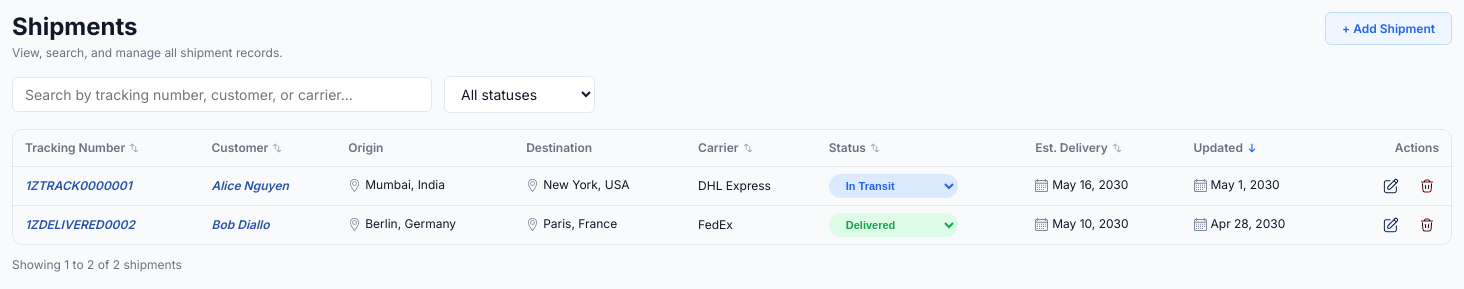
Test: ShipmentManager › shows an empty state when a search matches no shipments
Expected: the button "1ZTRACK0000001" is shown, [25,180,132,192]
In the search field with placeholder "Search by tracking number, customer, or carrier…": (222, 94) [12,77,432,112], type "nobody-matches-this"
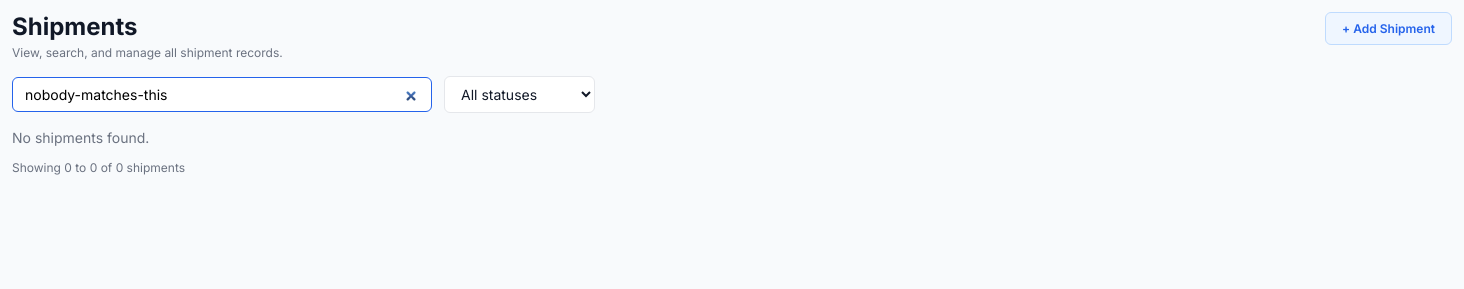
Result: the text "No shipments found." is shown at [12,129,149,146]
Result: the button "1ZTRACK0000001" is gone
